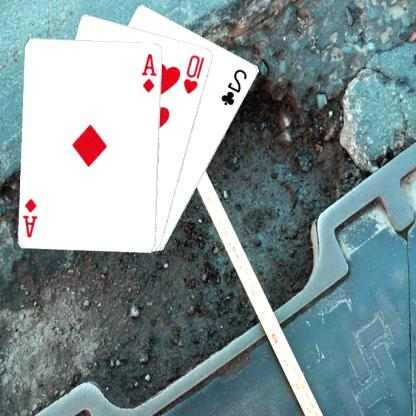10H: (183, 52, 208, 95)
2C: (220, 66, 251, 107)
AD: (141, 51, 160, 93), (23, 196, 41, 238)
